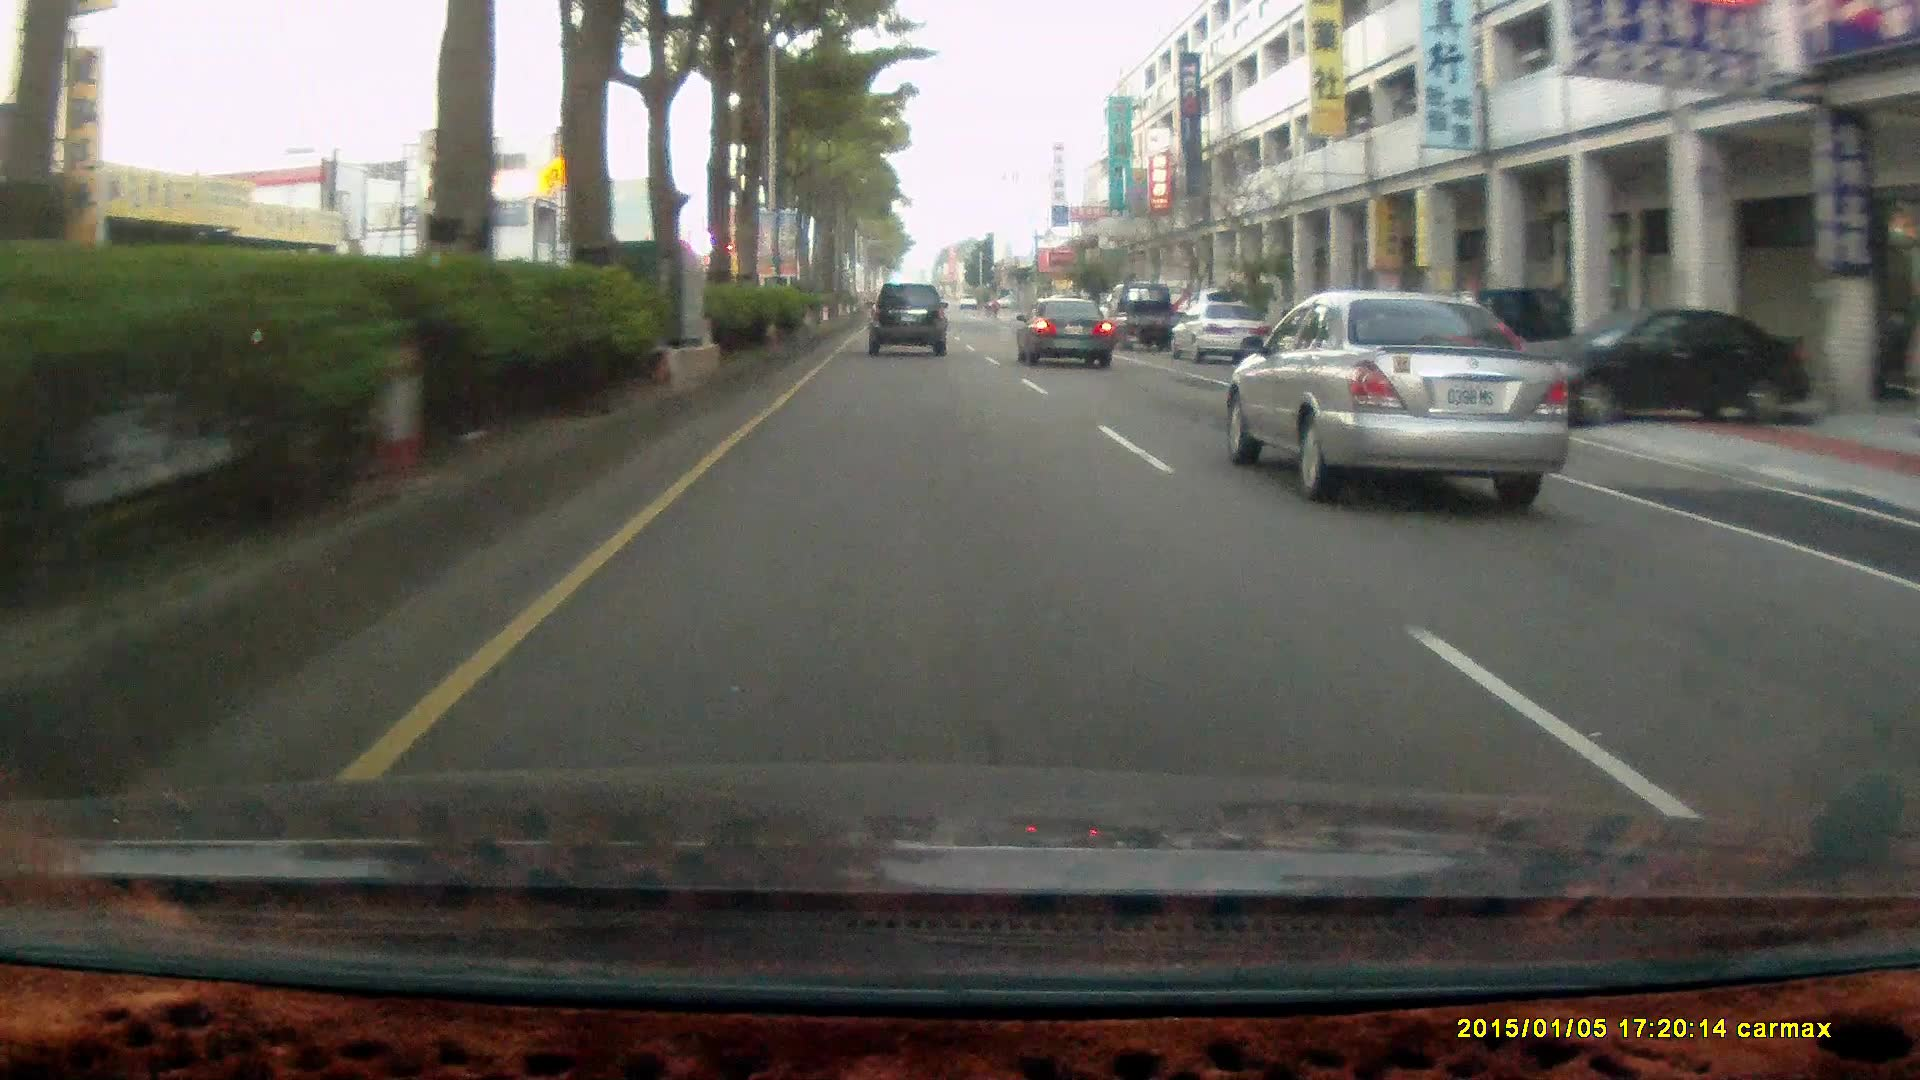vehicle: (1225, 293, 1575, 512), (1507, 303, 1832, 431), (1509, 302, 1811, 429), (1015, 297, 1120, 373), (1014, 295, 1116, 367), (1166, 297, 1270, 363), (1175, 302, 1275, 365), (868, 282, 949, 359), (864, 281, 947, 352), (1102, 282, 1175, 351)
